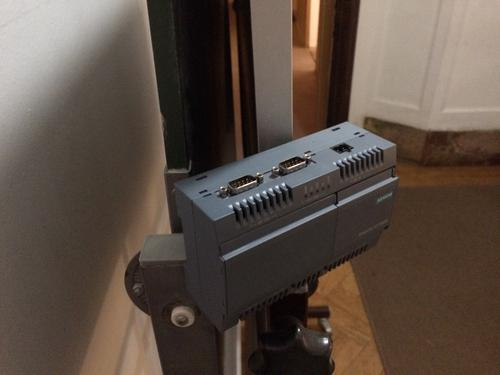iot2000: (173, 120, 400, 334)
